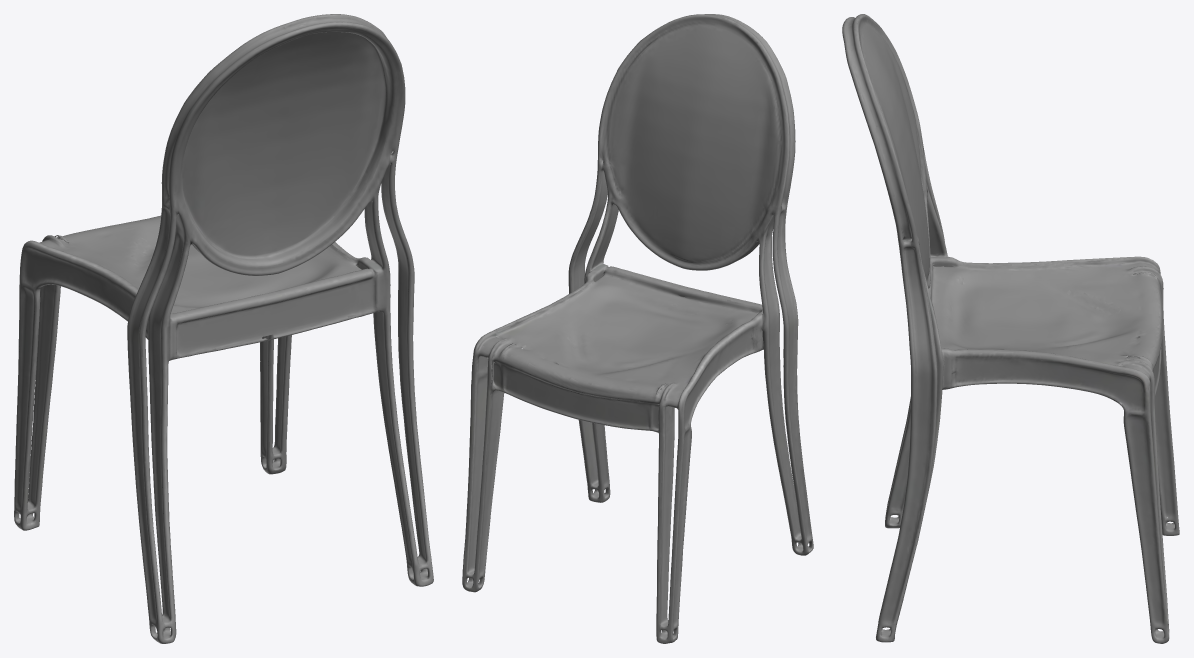
Rendered from chair-chuppah-guest.glb.
The picture shows the model from 3 angles, left to right: view 1: azimuth 30°, elevation 25°; view 2: azimuth 150°, elevation 25°; view 3: azimuth 270°, elevation 25°; orthographic projection. The views are drawn at different scales.
Parts seen in each view (by area): view 1: tripo_node_029804fc; view 2: tripo_node_029804fc; view 3: tripo_node_029804fc.
Part boxes in pixels (x1=…): tripo_node_029804fc: x1=14, y1=14, x2=433, y2=643; tripo_node_029804fc: x1=462, y1=14, x2=813, y2=643; tripo_node_029804fc: x1=842, y1=14, x2=1179, y2=643.
Bounding box in the file's own units: 0.4635 × 0.9794 × 0.539.
1 material, 1 textured.
